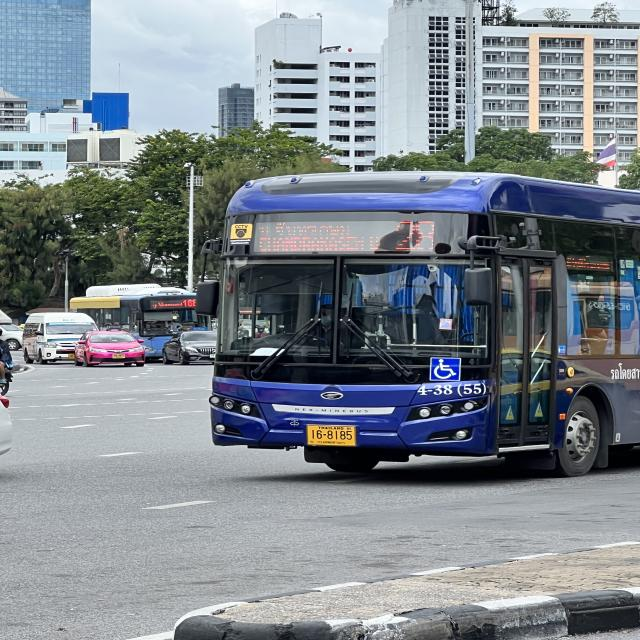Bus Line Number: (392, 216, 438, 254)
Bus Side Number: (412, 383, 484, 398)
Destination Sign: (251, 213, 391, 256)
TSB-Bus: (208, 171, 640, 478)
